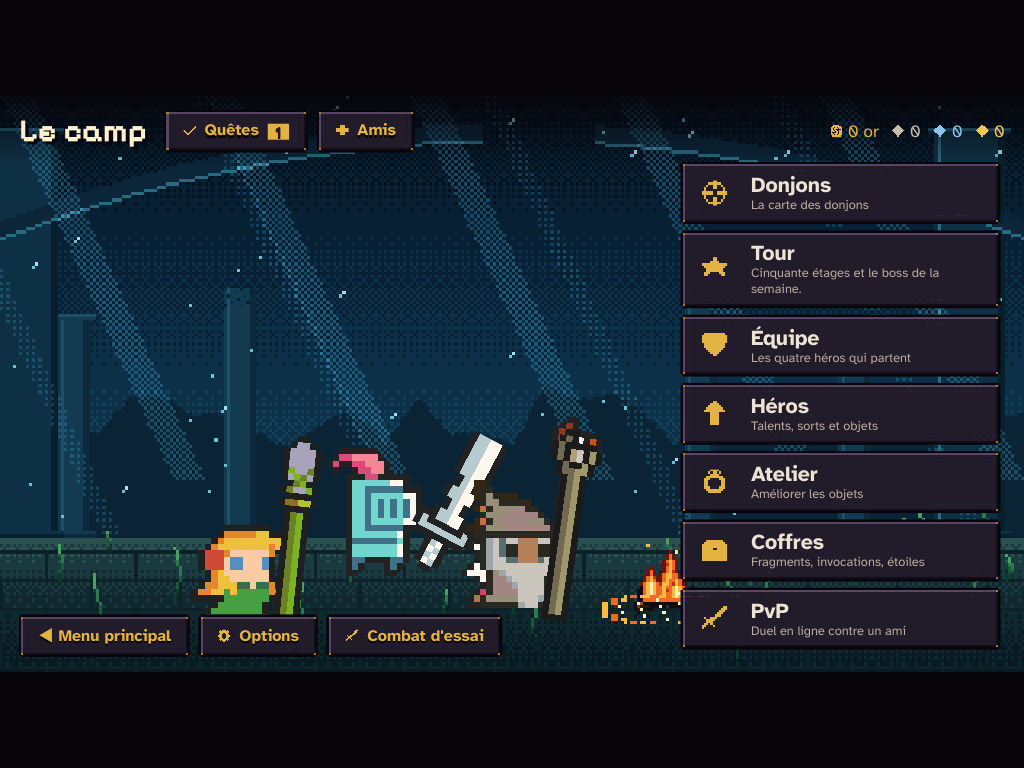
Test: écran des quêtes › badge du camp, onglets, succès réclamé une fois
Click the button "Quêtes 1": (236, 131) [164,109,308,152]
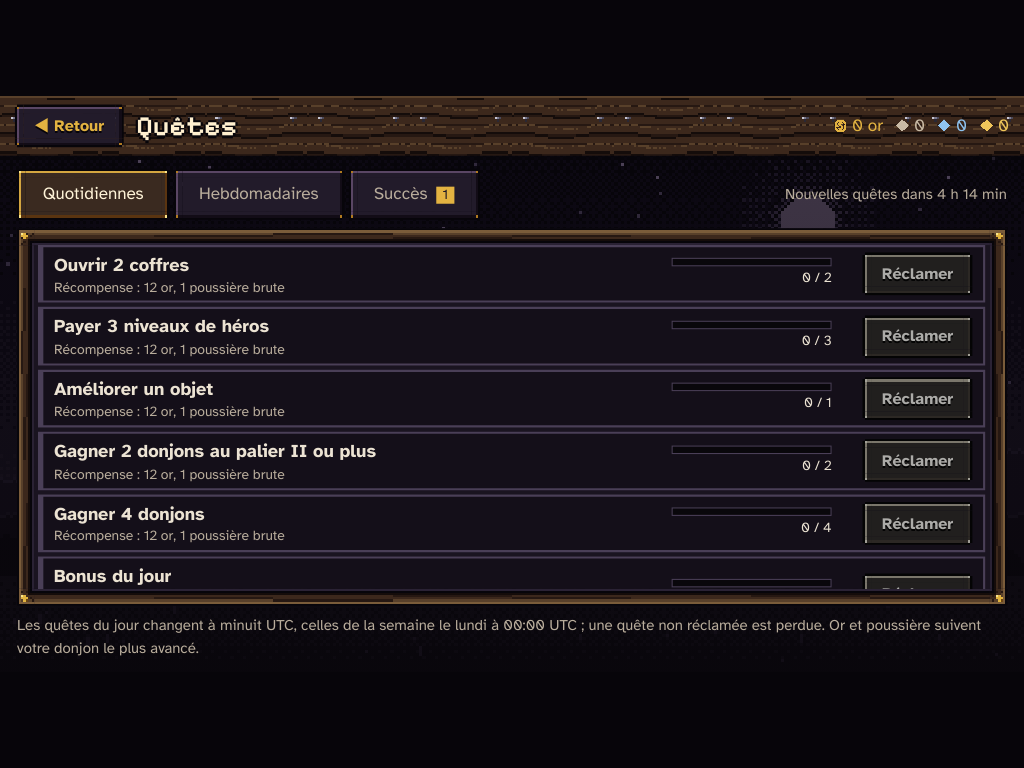
expect the heading reads "Quêtes": met, box [136,109,237,142]
expect the number of list items is 6: met
expect the text "Nouvelles quêtes dans 4 h 14 min" is shown: met, box [785,183,1007,205]
Click the tab "Hebdomadaires": (259, 194) [174,168,344,220]
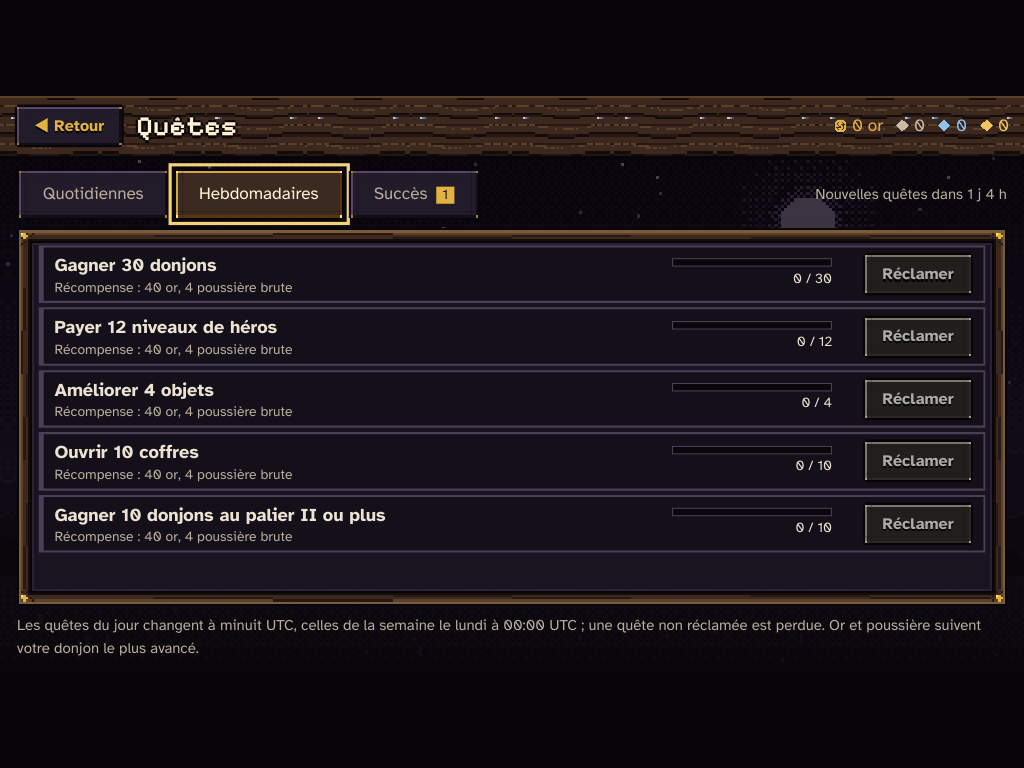
expect the number of list items is 5: met, box [38,245,986,303]; [38,308,986,366]; [38,370,986,428]; [38,432,986,490]; [38,494,986,552]
Click the tab "Succès1": (414, 194) [348,168,480,220]
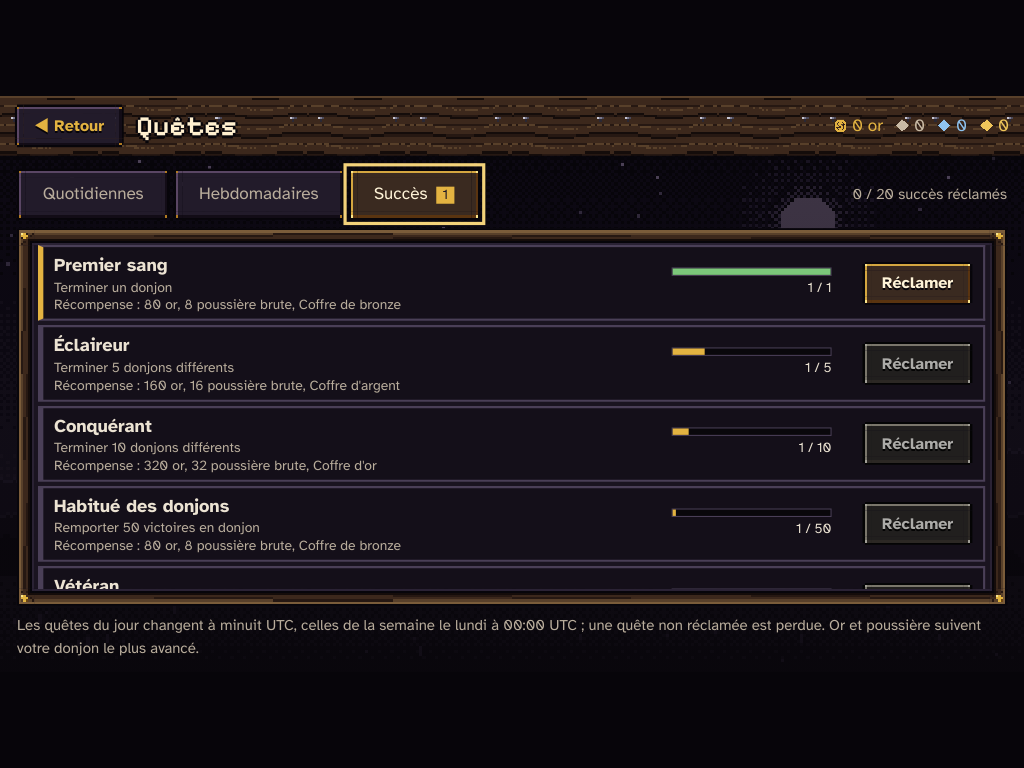
Click the button "Réclamer" in the row of "Premier sang": (918, 283) [863,262,973,305]
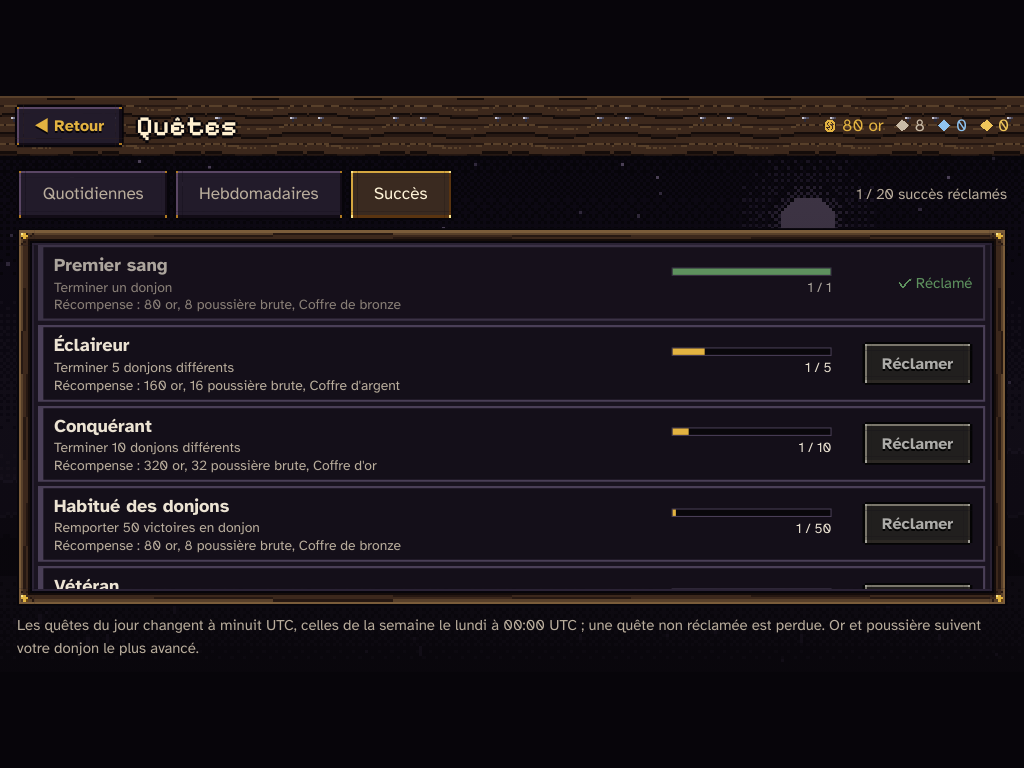
expect the text "Réclamé" is shown: met, box [899,274,973,292]
